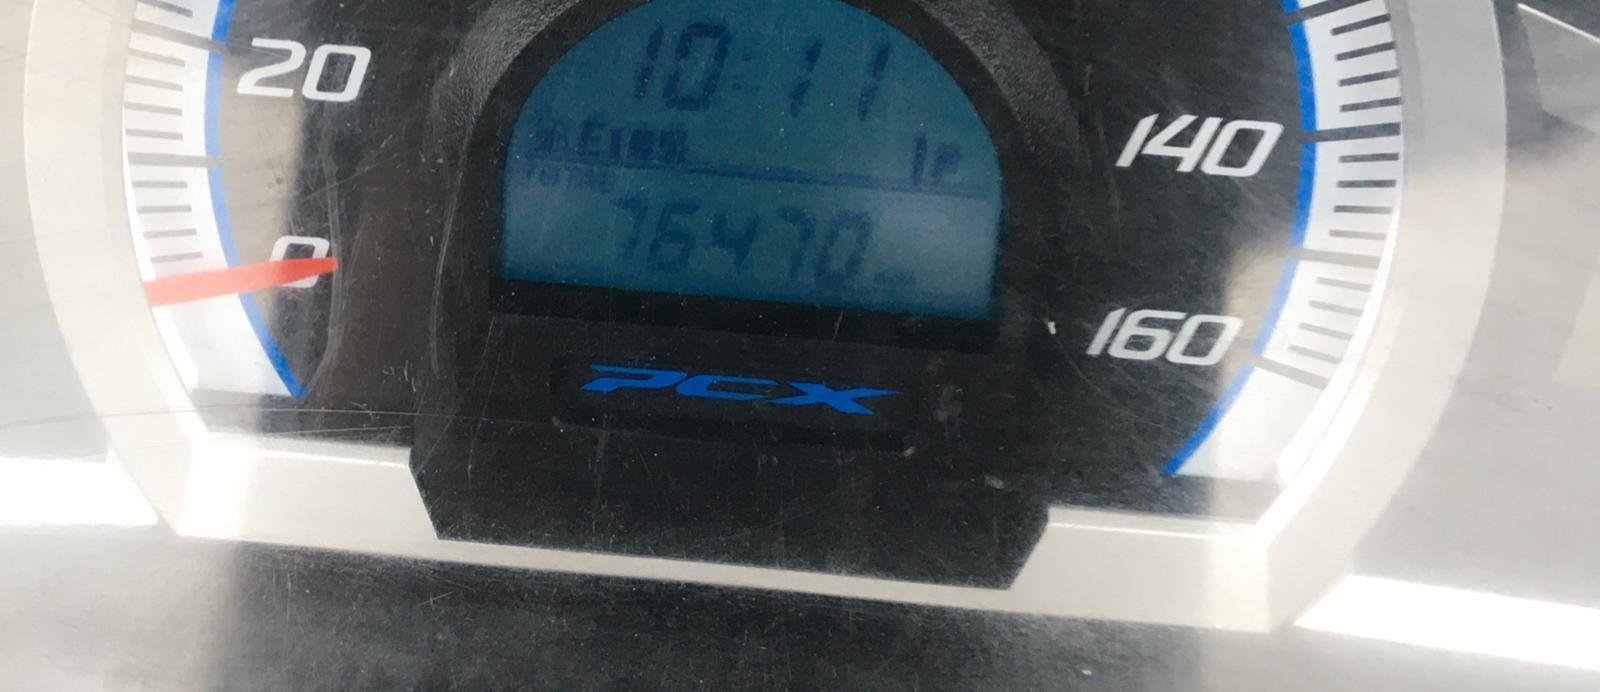0: (664, 18, 731, 113), (819, 205, 869, 289)
1: (626, 15, 673, 107), (786, 30, 828, 129), (853, 34, 898, 125)
4: (707, 201, 761, 271)
6: (652, 196, 700, 275)
7: (773, 196, 822, 287), (607, 192, 649, 268)
X: (928, 138, 964, 186), (577, 113, 608, 160), (537, 163, 559, 192), (578, 163, 596, 197), (563, 163, 582, 195), (520, 158, 539, 187)
odometer: (476, 0, 1013, 337)
